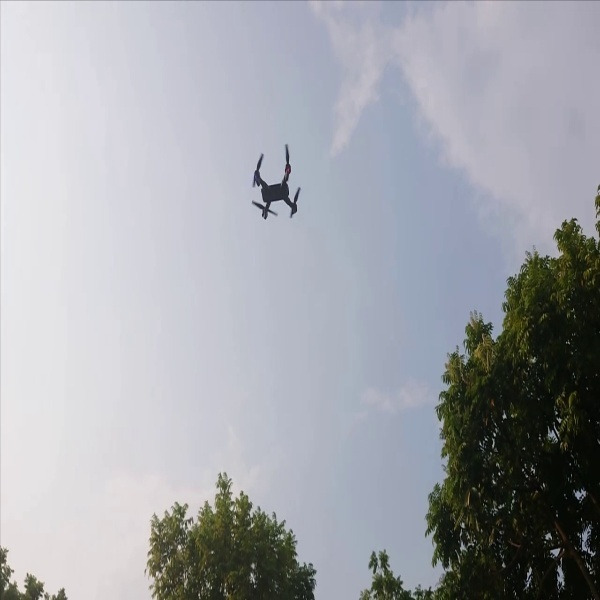drone: (238, 142, 311, 230)
